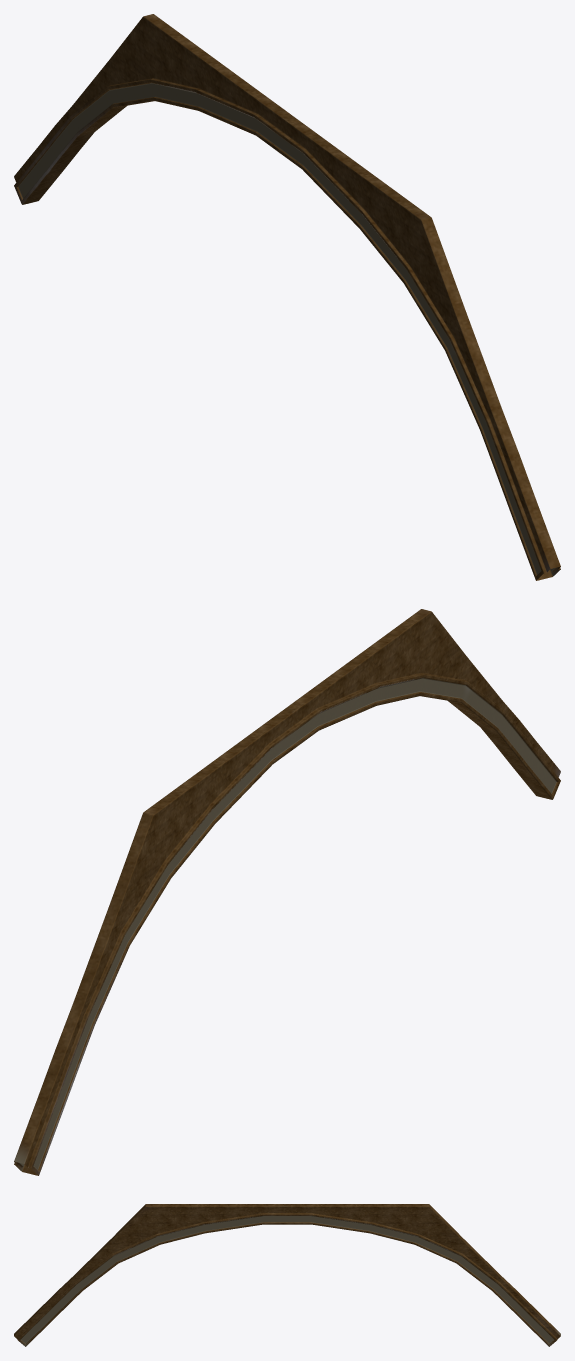
Rendered from Arch.fbx.
3 renders of one model, top to bottom at view 1: azimuth 30°, elevation 25°; view 2: azimuth 150°, elevation 25°; view 3: azimuth 270°, elevation 25°, orthographic. The views are drawn at different scales.
Parts seen in each view (by area): view 1: Cylinder.001; view 2: Cylinder.001; view 3: Cylinder.001.
Boxes of the visible parts, box(x1,y1,x2,y2) form: Cylinder.001: box(14, 14, 560, 580); Cylinder.001: box(14, 609, 560, 1175); Cylinder.001: box(14, 1204, 560, 1346).
Size of the model in its own units: 76.93 by 1169 by 4148.
